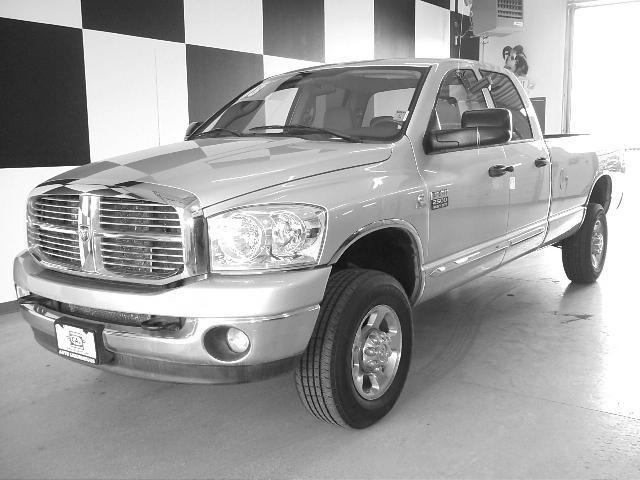car: (13, 55, 618, 435)
